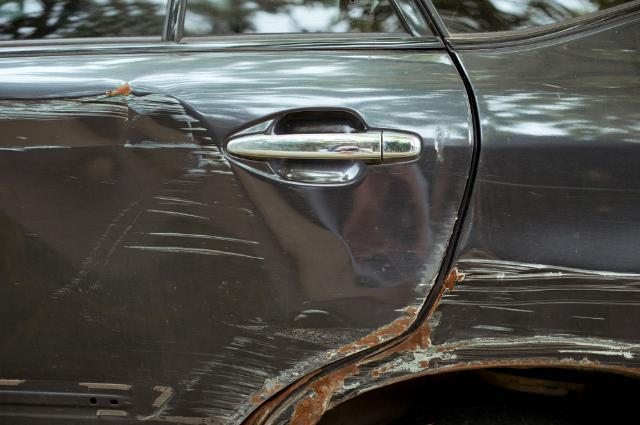dent: (300, 168, 432, 280)
scratch: (239, 258, 640, 425), (0, 80, 272, 264), (142, 270, 440, 425)
